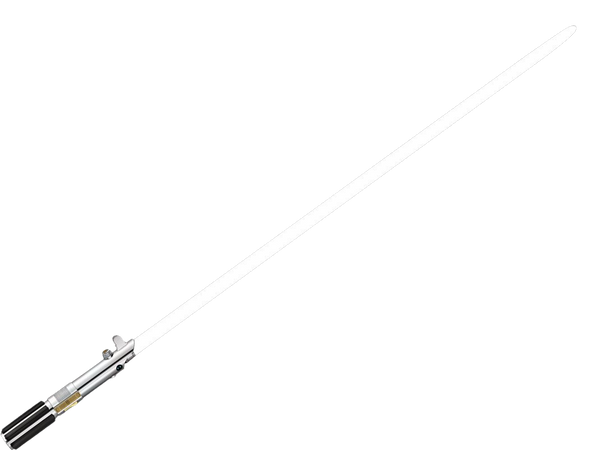lightsaber: (4, 0, 602, 448)
